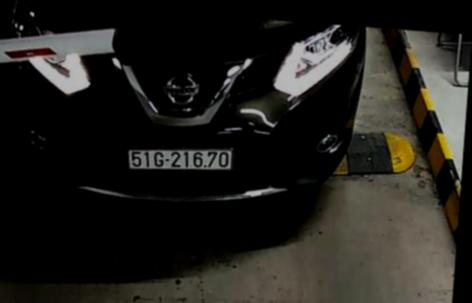License_Plate: (124, 141, 236, 177)
